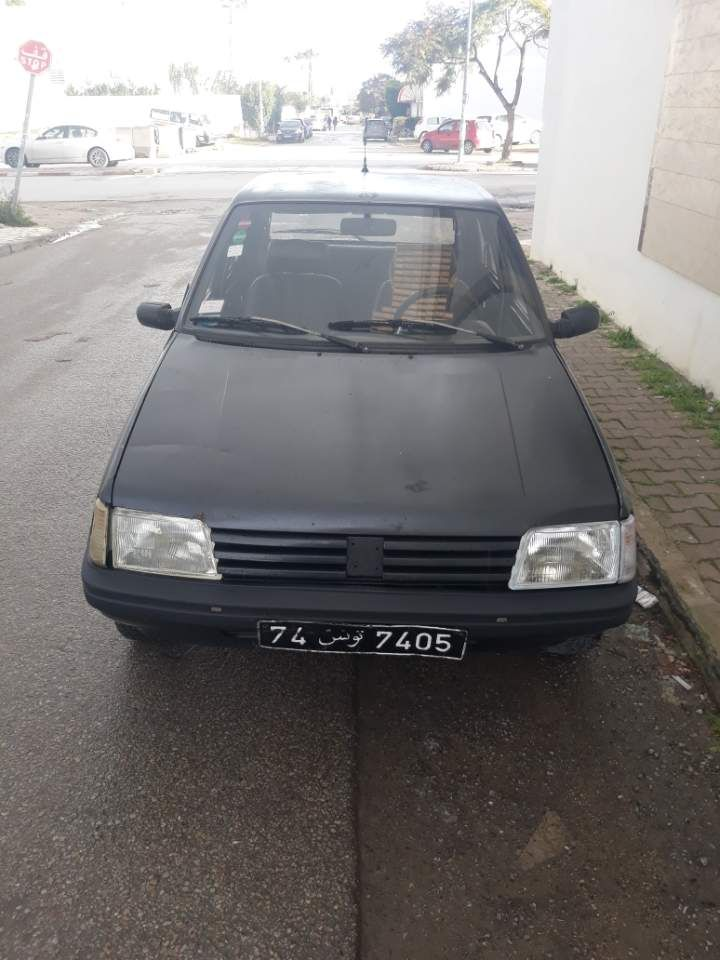LP: (256, 618, 467, 664)
